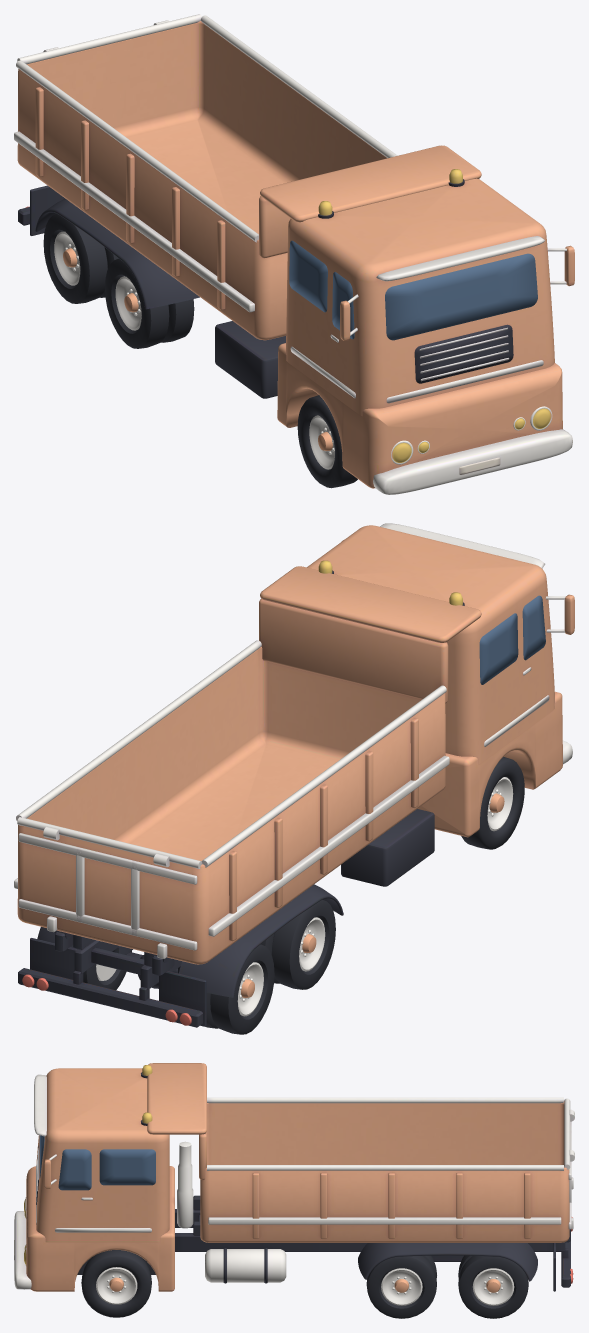
The model's file is dump-truck.glb.
The picture shows the model from 3 angles, top to bottom: view 1: azimuth 30°, elevation 25°; view 2: azimuth 150°, elevation 25°; view 3: azimuth 270°, elevation 25°; orthographic projection. The views are drawn at different scales.
Visible parts, largest first — view 1: dump-truck_tipper, dump-truck_body, dump-truck_windows, dump-truck_wheel_r1r, dump-truck_wheel_r2r, dump-truck_wheel_fr, dump-truck_headlights; view 2: dump-truck_tipper, dump-truck_body, dump-truck_wheel_r1r, dump-truck_wheel_r2r, dump-truck_wheel_fr, dump-truck_windows, dump-truck_wheel_r2l; view 3: dump-truck_tipper, dump-truck_body, dump-truck_wheel_fl, dump-truck_wheel_r2l, dump-truck_wheel_r1l, dump-truck_windows.
Part boxes in pixels (box(x1,y1,x2,y2)): dump-truck_tipper: box(14, 14, 481, 340); dump-truck_body: box(18, 169, 574, 494); dump-truck_windows: box(289, 240, 537, 340); dump-truck_wheel_r1r: box(105, 258, 194, 348); dump-truck_wheel_r2r: box(43, 214, 118, 303); dump-truck_wheel_fr: box(297, 395, 357, 488); dump-truck_headlights: box(391, 406, 552, 464); dump-truck_tipper: box(14, 566, 481, 964); dump-truck_body: box(18, 523, 574, 1027); dump-truck_wheel_r1r: box(261, 899, 335, 989); dump-truck_wheel_r2r: box(205, 944, 274, 1034); dump-truck_wheel_fr: box(461, 756, 524, 849); dump-truck_windows: box(479, 595, 545, 684); dump-truck_wheel_r2l: box(83, 951, 131, 990); dump-truck_tipper: box(147, 1063, 574, 1242); dump-truck_body: box(14, 1065, 570, 1291); dump-truck_wheel_fl: box(81, 1250, 151, 1317); dump-truck_wheel_r2l: box(458, 1255, 528, 1318); dump-truck_wheel_r1l: box(366, 1255, 436, 1318); dump-truck_windows: box(39, 1135, 155, 1190).
Size of the model in its own units: 2.94 by 3.19 by 8.26.
Materials: 24 (2 with a texture image).
